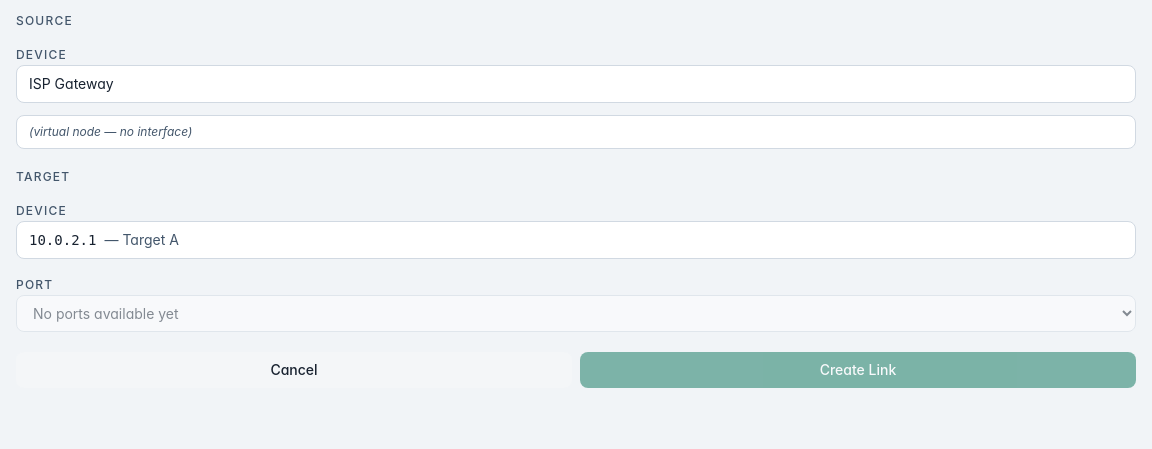
Scenario: LinkCreatePanel › interface request ownership › ignores a stale target response that resolves after the selected target response
This screenshot has width=1152, height=449.
Click the button "10.0.2.1— Target A".
click(63, 240)  # box [16,221,1136,259]
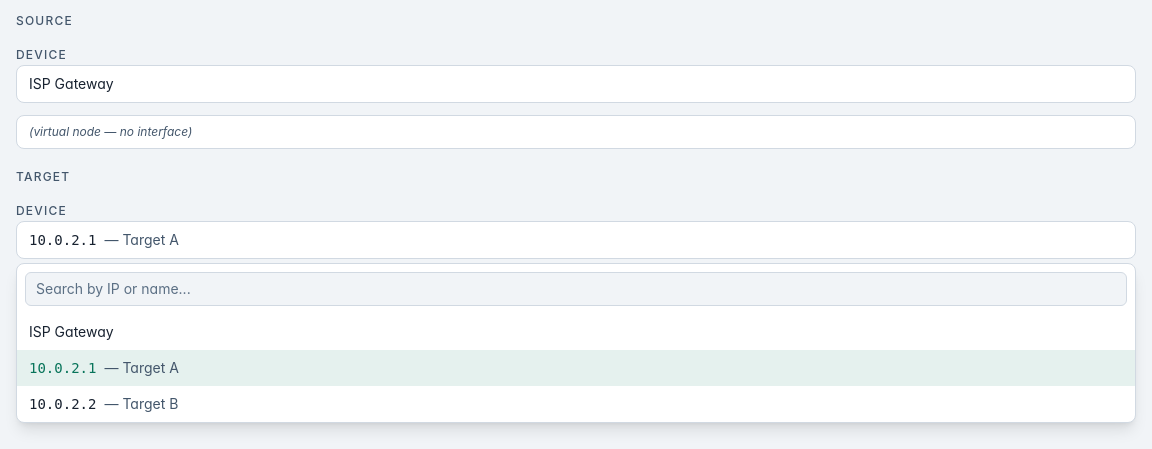
Click the button "10.0.2.2— Target B".
click(63, 404)  # box [17,386,1135,422]
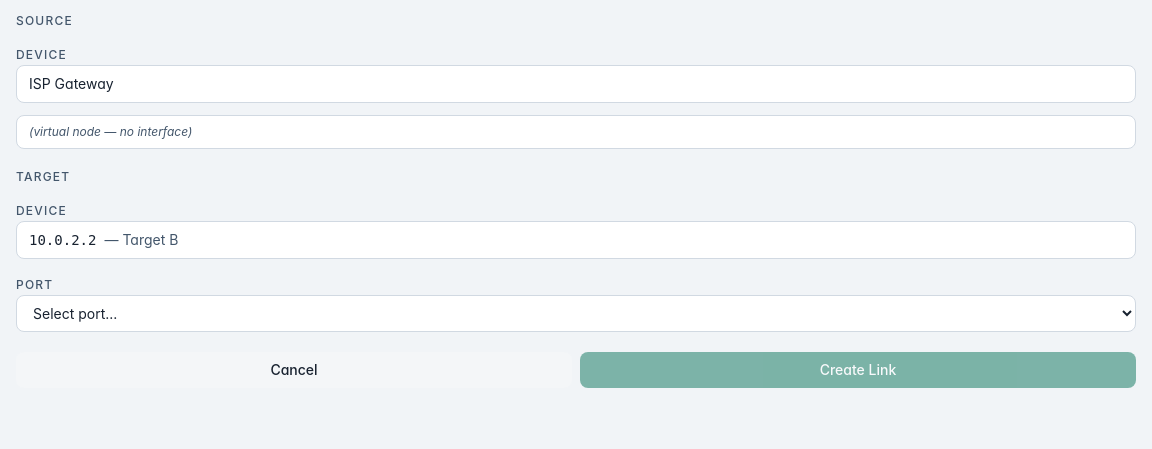
Select "target-b-port 1G up" in the dropdown at (576, 314), box [16,295,1136,332]
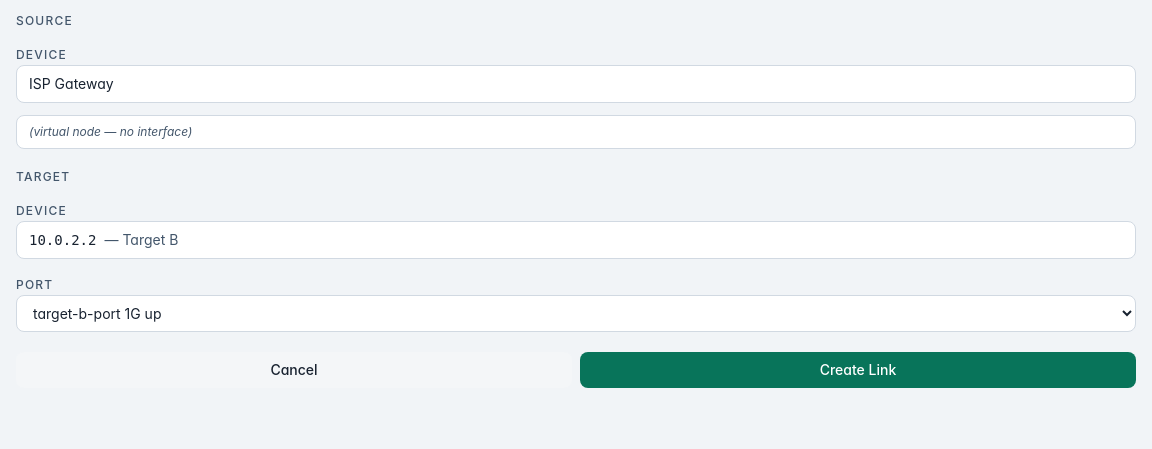
Expected: the button "Create Link" is enabled, [580,352,1136,388]
